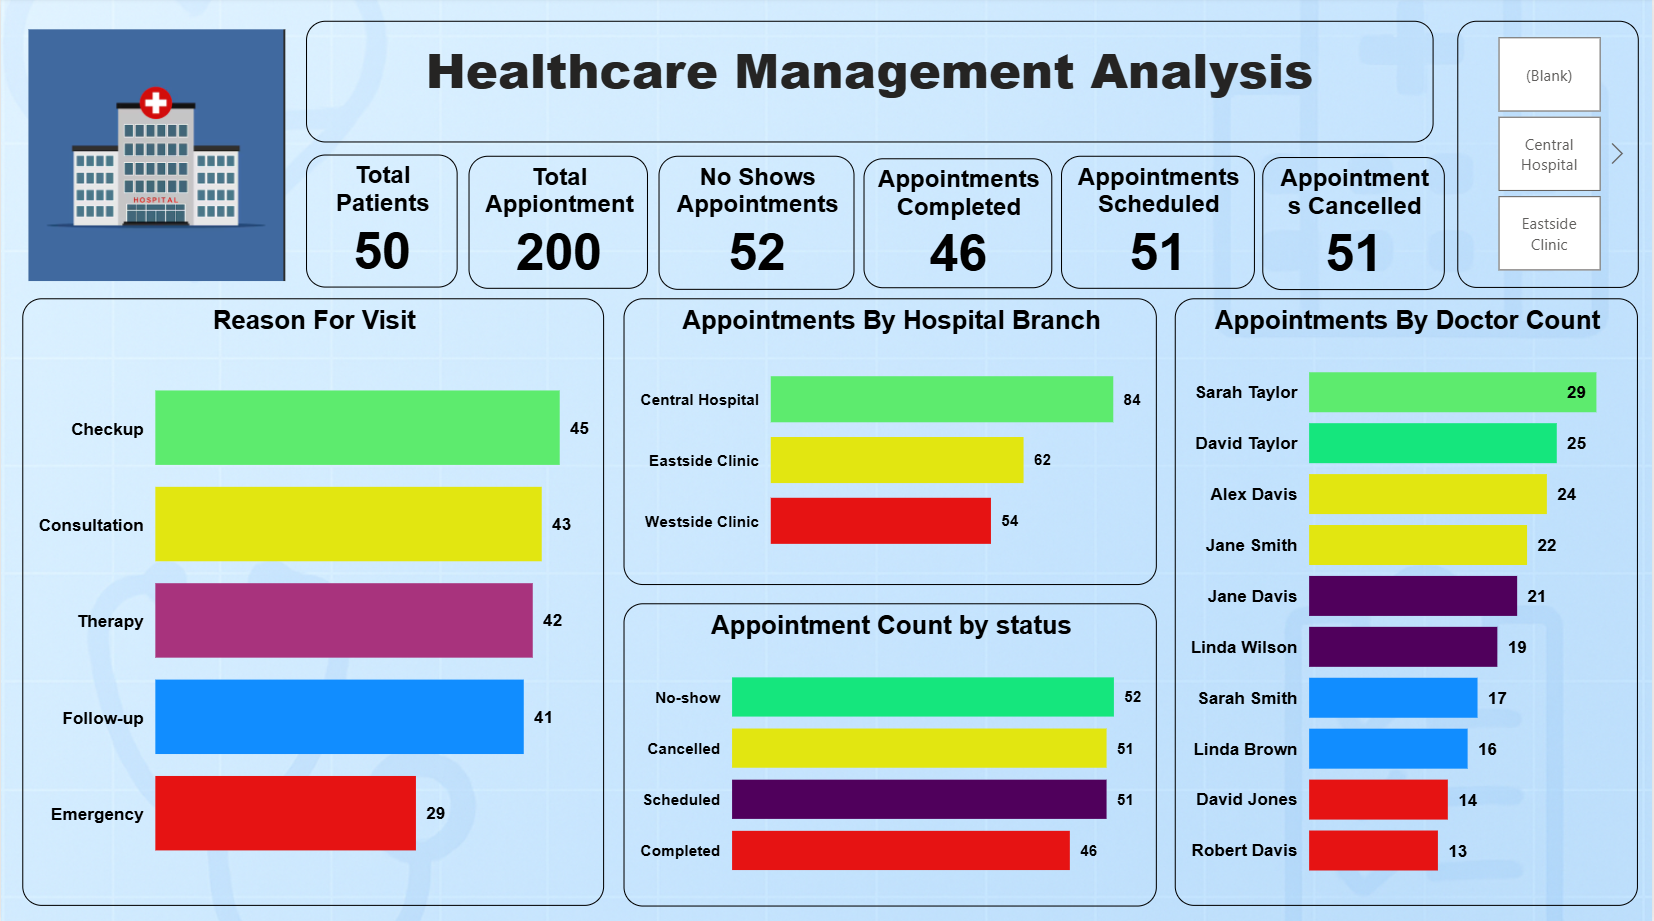

The dashboard page shown, as its layout file describes it:
{"tool":"powerbi","page":{"name":"Dashboard_1","canvas":[1280,720],"ordinal":0},"visuals":[{"type":"textbox","box":[236,18.6,874.4,94.2],"z":0},{"type":"image","box":[16.3,10.5,209.3,223.3],"z":1000},{"type":"card","title":"Total Patients ","fields":{"Values":["CountNonNull(Patients.patient_id)"]},"box":[239.2,122.2,149.9,103.7],"z":2000},{"type":"card","title":"Total Appiontment","fields":{"Values":["CountNonNull(Appointments.appointment_date)"]},"box":[400.4,125.2,161.2,100.6],"z":3000},{"type":"card","title":"No Shows Appointments","fields":{"Values":["CountNonNull(Appointments.appointment_date)"]},"box":[574.9,125.2,149.9,100.6],"z":4000},{"type":"clusteredBarChart","title":"Appointments By Hospital Branch","fields":{"Category":["Appointments.Hopital Branch"],"Y":["CountNonNull(Appointments.appointment_id)"]},"box":[482.6,233.7,414,222.1],"z":5000},{"type":"clusteredBarChart","title":"Reason For Visit ","fields":{"Category":["Appointments.reason_for_visit"],"Y":["CountNonNull(Appointments.appointment_id)"]},"box":[16.3,233.7,451.2,470.9],"z":6000},{"type":"slicer","fields":{"Values":["doctors.hospital_branch"]},"box":[1129.3,18.5,140.6,94.5],"z":7000},{"type":"clusteredBarChart","title":"Appointments By Doctor Count","fields":{"Y":["CountNonNull(Appointments.appointment_id)"],"Category":["Appointments.Doctors Name"]},"box":[910.5,233.7,359.3,470.9],"z":8000},{"type":"clusteredBarChart","title":"Appointment Count by status","fields":{"Category":["Appointments.status"],"Y":["CountNonNull(Appointments.appointment_id)"]},"box":[482.6,469.8,414,234.9],"z":9000},{"type":"card","title":"Appointments Completed","fields":{"Values":["CountNonNull(Appointments.appointment_date)"]},"box":[738.1,125.2,172.5,100.6],"z":10000},{"type":"card","title":"Appointments Scheduled","fields":{"Values":["CountNonNull(Appointments.appointment_date)"]},"box":[927,125.2,170.4,100.6],"z":11000},{"type":"card","title":"Appointments Cancelled","fields":{"Values":["CountNonNull(Appointments.appointment_date)"]},"box":[1110.8,125.2,159.1,100.6],"z":12000}]}

Visuals, with their boxes in screenshot pixels (x1, y1, x2, y2), scaled from the page's 1280x720 canvas onto the 1654x921 screenshot:
textbox: BBox(305, 24, 1435, 144)
image: BBox(21, 13, 292, 299)
"Total Patients " card: BBox(309, 156, 503, 289)
"Total Appiontment" card: BBox(517, 160, 726, 289)
"No Shows Appointments" card: BBox(743, 160, 937, 289)
"Appointments By Hospital Branch" clusteredBarChart: BBox(624, 299, 1159, 583)
"Reason For Visit " clusteredBarChart: BBox(21, 299, 604, 901)
slicer - doctors.hospital_branch: BBox(1459, 24, 1641, 145)
"Appointments By Doctor Count" clusteredBarChart: BBox(1177, 299, 1641, 901)
"Appointment Count by status" clusteredBarChart: BBox(624, 601, 1159, 901)
"Appointments Completed" card: BBox(954, 160, 1177, 289)
"Appointments Scheduled" card: BBox(1198, 160, 1418, 289)
"Appointments Cancelled" card: BBox(1435, 160, 1641, 289)
